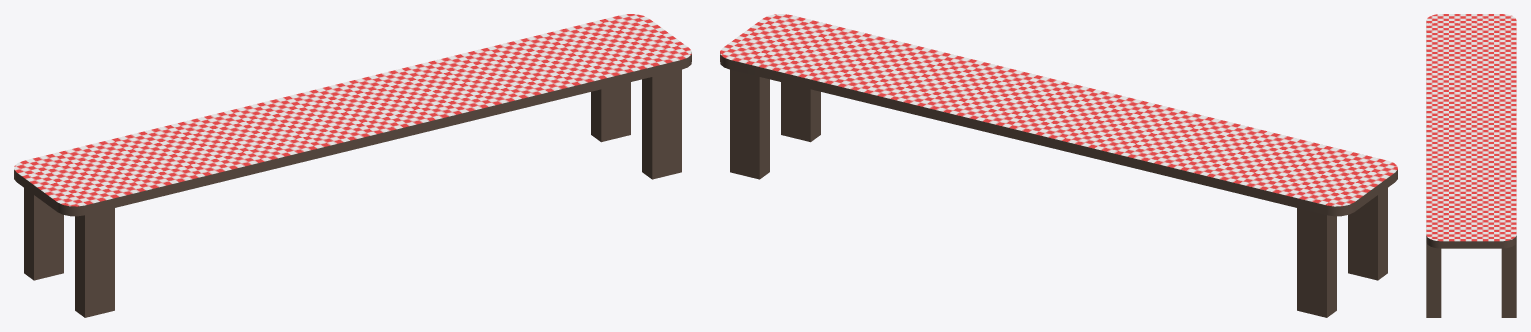
Rendered from Bolum_Sonu_Masa_Model.fbx.
3 renders of one model, left to right at view 1: azimuth 30°, elevation 25°; view 2: azimuth 150°, elevation 25°; view 3: azimuth 270°, elevation 25°, orthographic. The views are drawn at different scales.
Parts seen in each view (by area): view 1: pCube2; view 2: pCube2; view 3: pCube2.
Boxes of the visible parts, x1,y1,x2,y2 form: pCube2: (14,14,691,317); pCube2: (720,14,1397,317); pCube2: (1426,14,1516,317).
Bounding box in the file's own units: 54.3 × 9.24 × 9.1.
